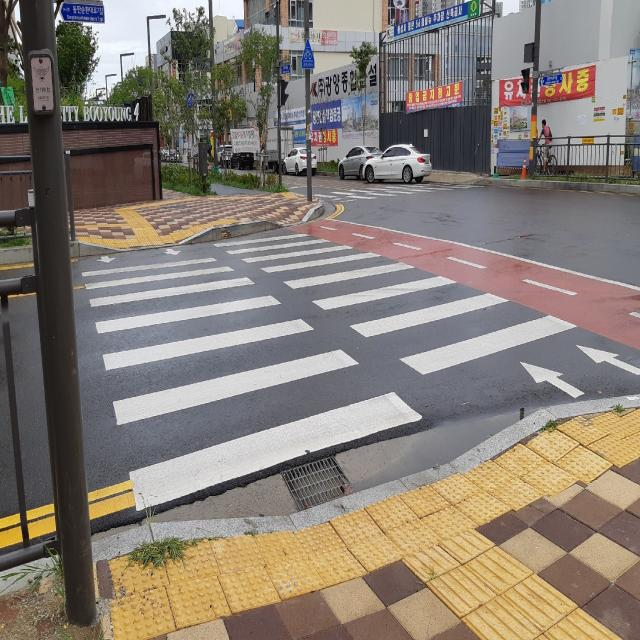횡단보도: (81, 230, 640, 515)
